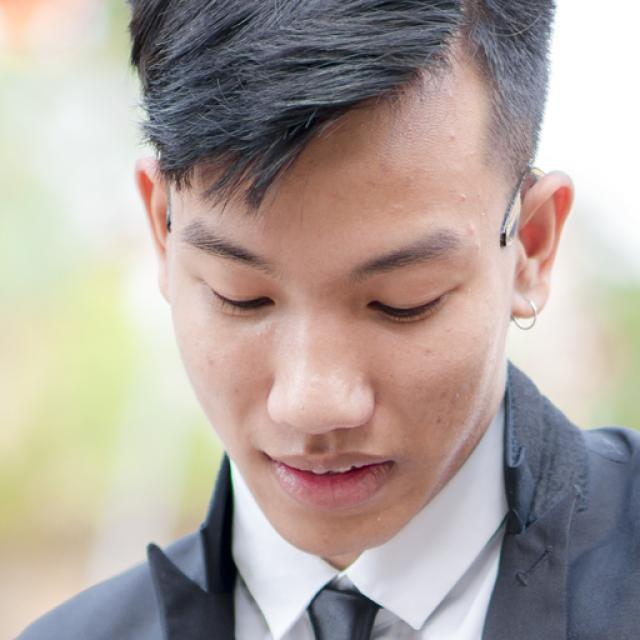content: (167, 122, 508, 558)
